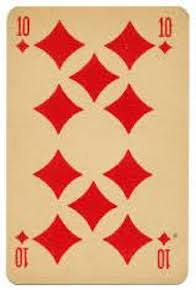TenOfDiamonds: (6, 4, 190, 289)
